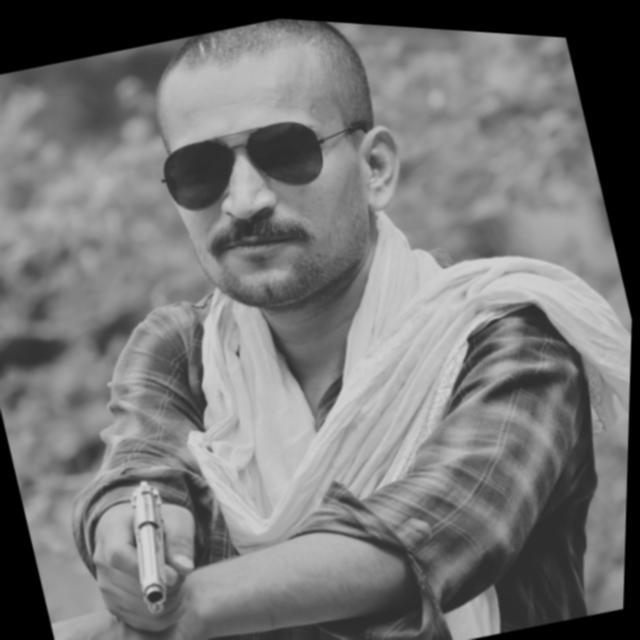weapon: (110, 463, 213, 621)
